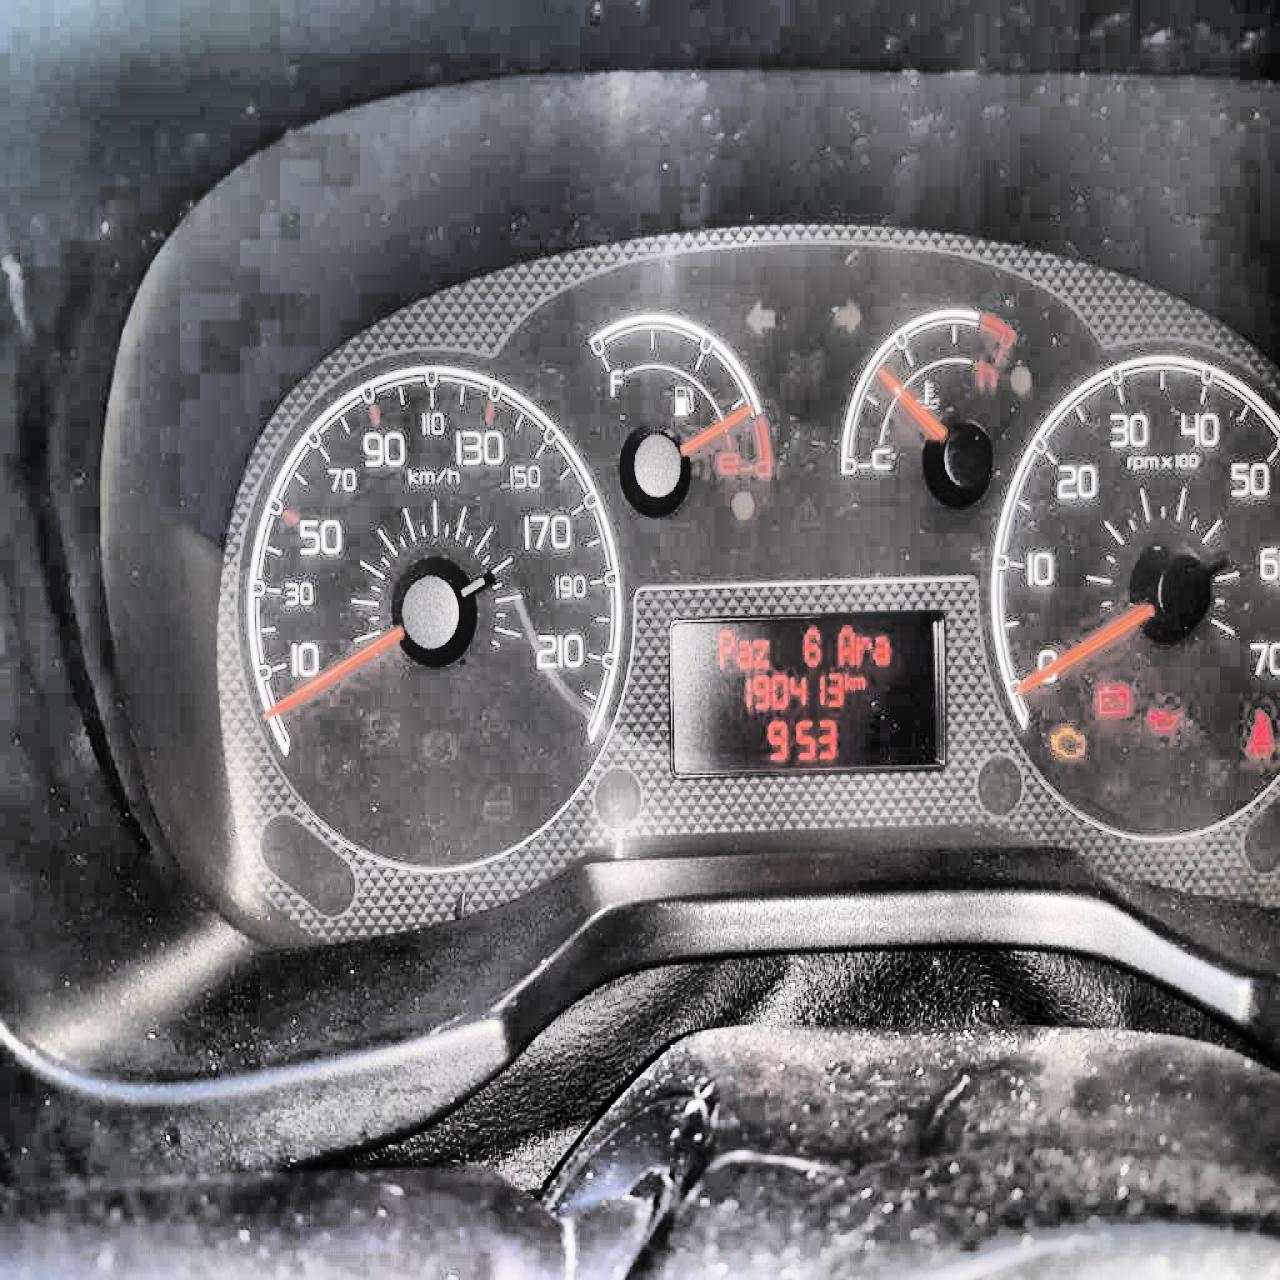0: (769, 672, 789, 710)
1: (742, 673, 753, 710), (816, 672, 825, 707)
3: (816, 719, 836, 758), (828, 670, 843, 707)
4: (789, 672, 808, 706)
5: (792, 716, 816, 761)
6: (801, 625, 821, 667)
9: (763, 716, 788, 762), (753, 673, 769, 712)
X: (836, 624, 855, 667), (716, 627, 734, 670), (871, 633, 890, 667), (734, 636, 751, 670), (753, 636, 770, 670), (855, 633, 871, 665), (852, 673, 866, 692), (843, 670, 852, 692)
odometer: (665, 605, 949, 782)
